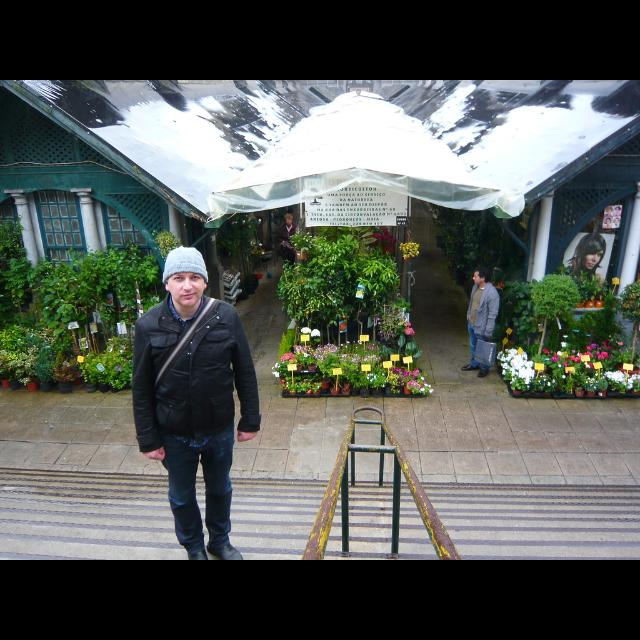Flower: (271, 325, 433, 393), (499, 348, 639, 388), (400, 242, 420, 258), (404, 321, 416, 335)
